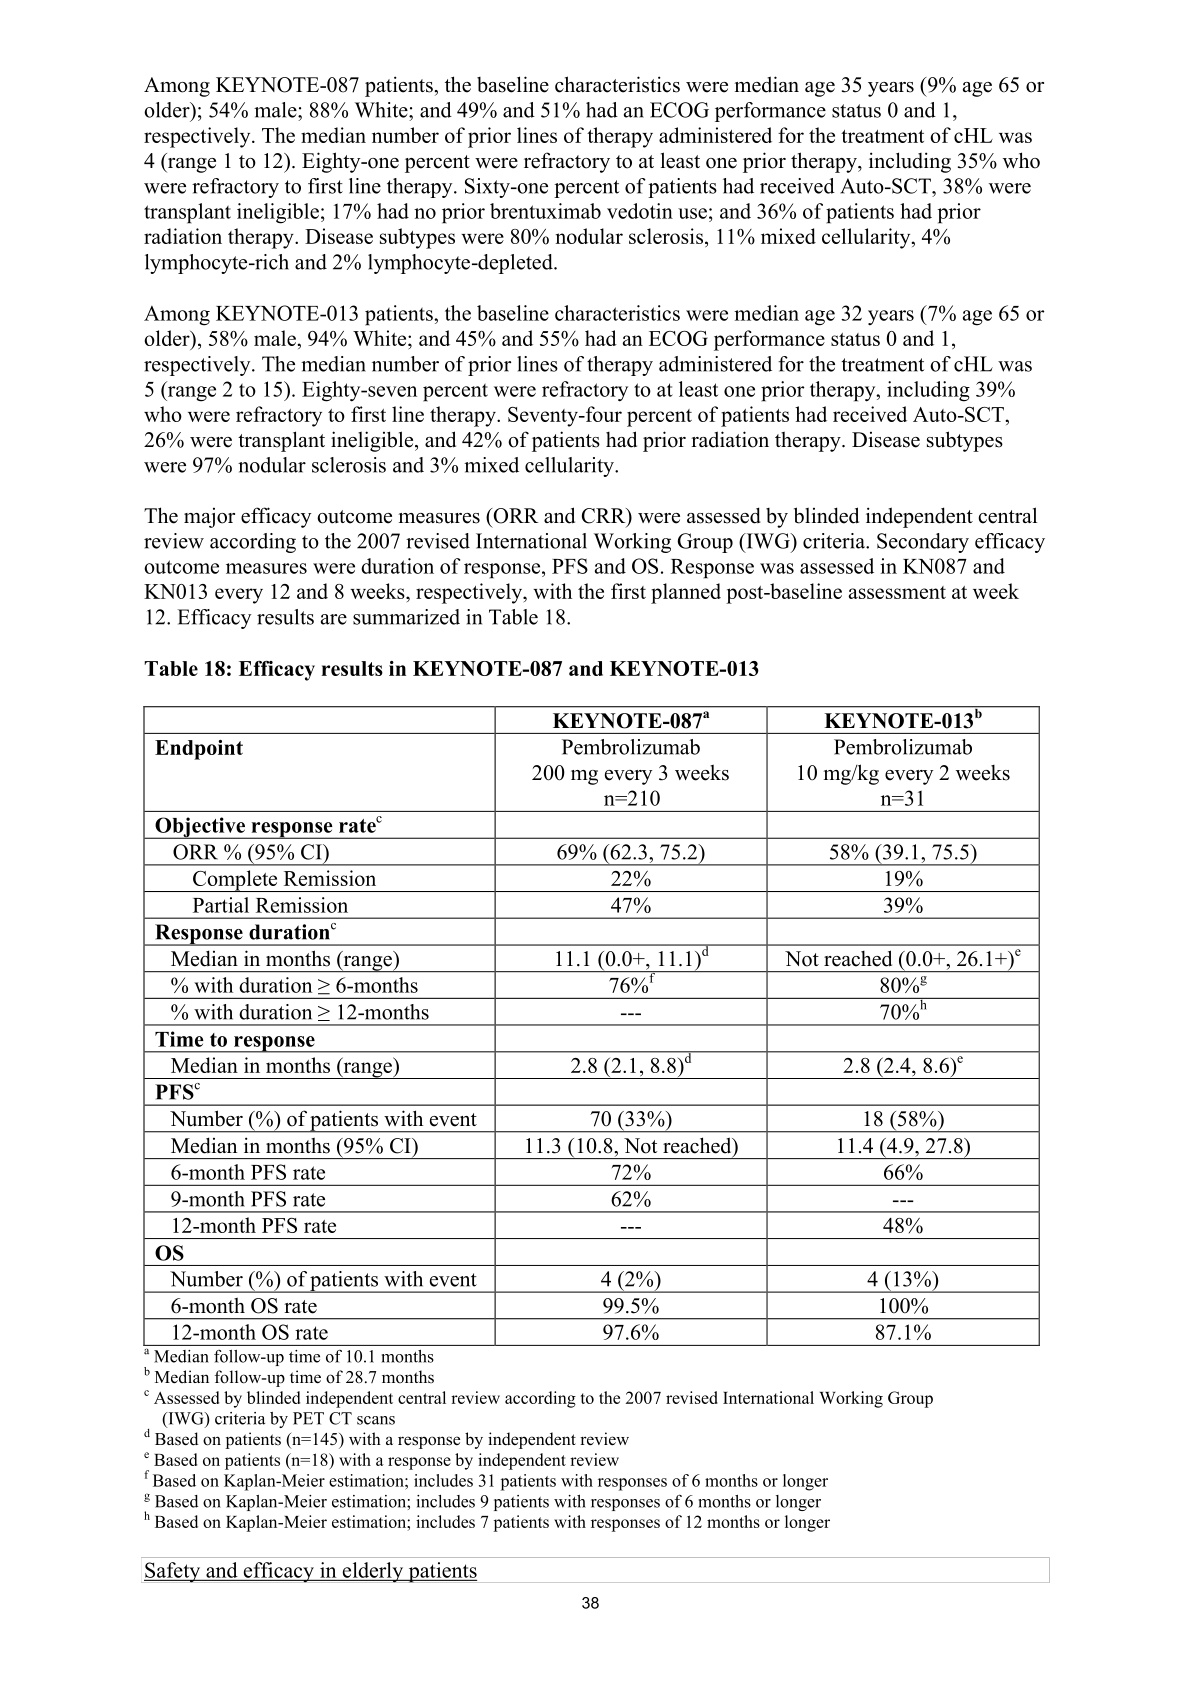full_lined: (142, 703, 1041, 1346)
